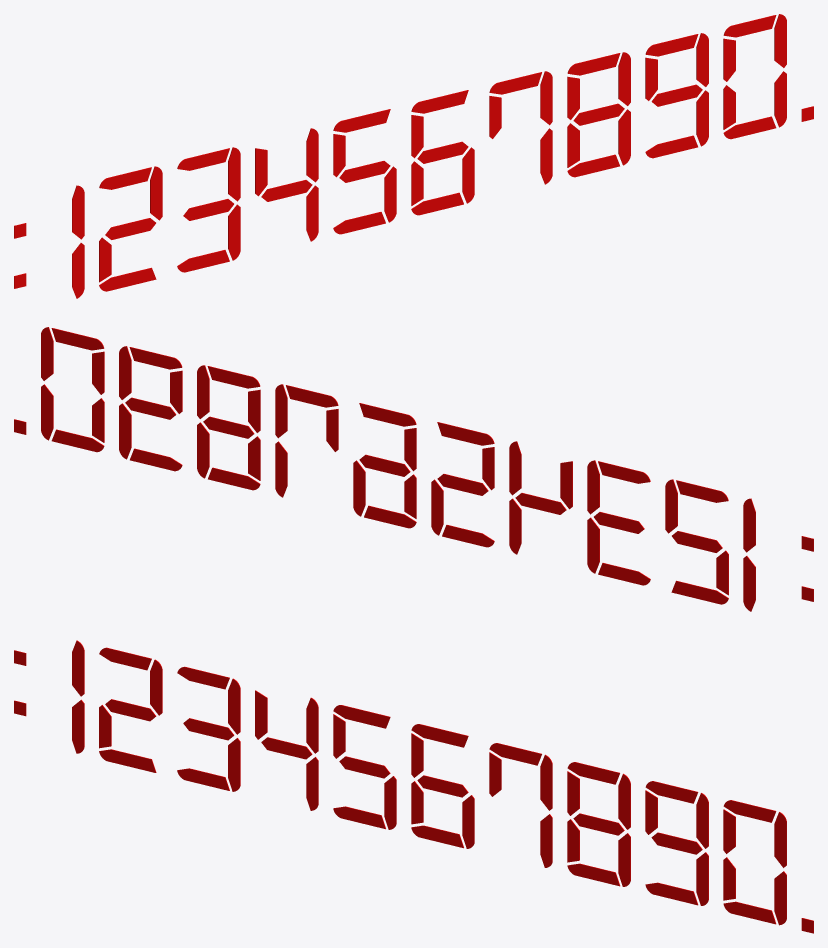
Rendered from Counter.fbx.
The picture shows the model from 3 angles, top to bottom: view 1: azimuth 30°, elevation 25°; view 2: azimuth 150°, elevation 25°; view 3: azimuth 330°, elevation 25°; orthographic projection.
Visible parts, largest first — view 1: Cap_1_8, Cap_1_6, Cap_1_9, Cap_1_10, Cap_1_3, Cap_1_5, Cap_1_2, Numbers, Cap_1_4, Cap_1_7, Cap_1; view 2: Cap_2_8, Cap_2_6, Cap_2_9, Cap_2_10, Cap_2_3, Cap_2_5, Cap_2_2, Numbers, Cap_2_4, Cap_2_7, Cap_2; view 3: Cap_1_8, Cap_1_9, Cap_1_6, Cap_1_10, Cap_1_5, Cap_1_3, Cap_1_2, Numbers, Cap_1_4, Cap_1_7, Cap_1.
Boxes of the visible parts, <box> form: Cap_1_8: <box>567,52,630,177</box>; Cap_1_6: <box>411,90,474,215</box>; Cap_1_9: <box>646,33,708,158</box>; Cap_1_10: <box>724,14,786,139</box>; Cap_1_3: <box>177,147,240,272</box>; Cap_1_5: <box>333,109,396,234</box>; Cap_1_2: <box>99,166,162,291</box>; Numbers: <box>72,14,813,298</box>; Cap_1_4: <box>255,128,318,241</box>; Cap_1_7: <box>489,71,552,184</box>; Cap_1: <box>72,186,84,298</box>; Cap_2_8: <box>197,365,260,490</box>; Cap_2_6: <box>353,403,416,528</box>; Cap_2_9: <box>119,346,181,471</box>; Cap_2_10: <box>41,327,103,452</box>; Cap_2_3: <box>587,460,650,585</box>; Cap_2_5: <box>431,422,494,547</box>; Cap_2_2: <box>665,479,728,604</box>; Numbers: <box>14,327,755,611</box>; Cap_2_4: <box>509,441,572,554</box>; Cap_2_7: <box>275,384,338,497</box>; Cap_2: <box>743,499,755,611</box>; Cap_1_8: <box>567,762,630,886</box>; Cap_1_9: <box>645,781,708,905</box>; Cap_1_6: <box>411,724,474,848</box>; Cap_1_10: <box>723,800,786,925</box>; Cap_1_5: <box>333,705,396,829</box>; Cap_1_3: <box>177,667,239,791</box>; Cap_1_2: <box>99,648,161,772</box>; Numbers: <box>76,640,813,932</box>; Cap_1_4: <box>255,690,318,810</box>; Cap_1_7: <box>489,743,552,867</box>; Cap_1: <box>72,641,83,753</box>.
Size of the model in its own units: 968 by 131 by 1.
